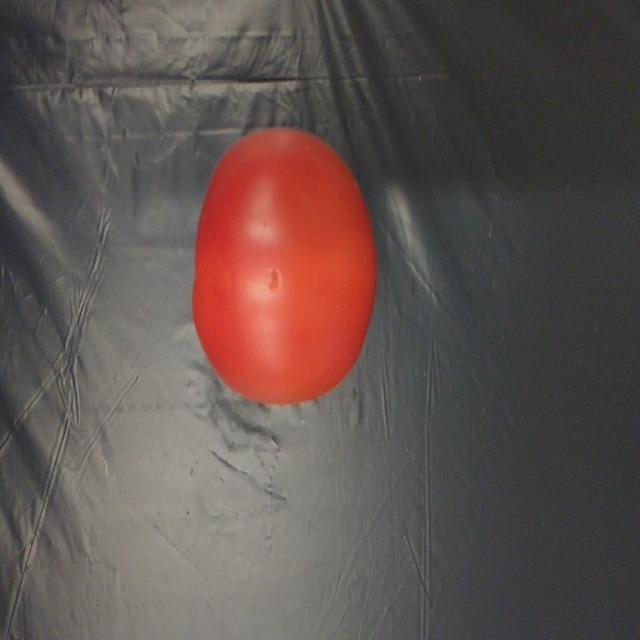kirmizi: (170, 99, 387, 427)
